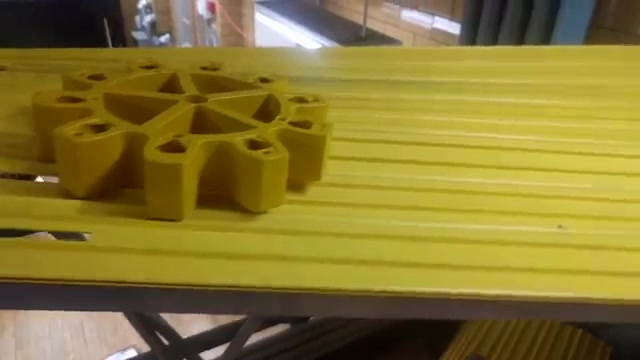gear: (30, 50, 338, 220)
